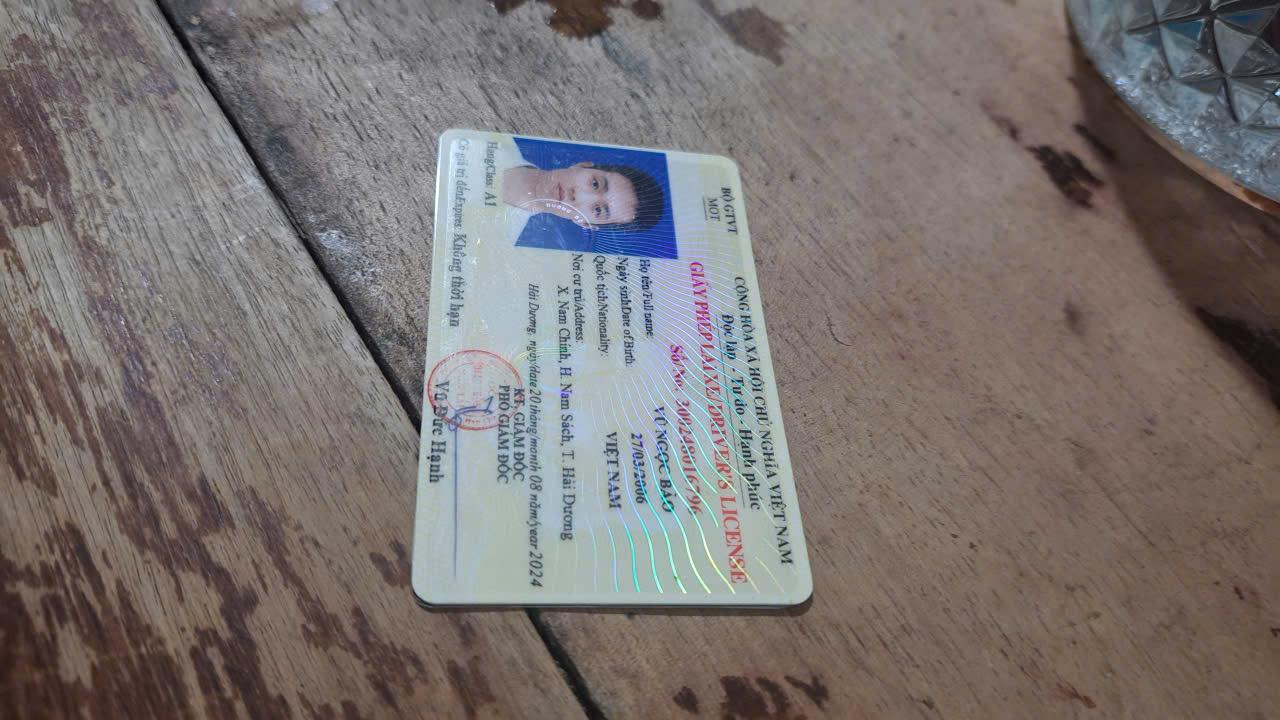gplx: (402, 121, 816, 623)
